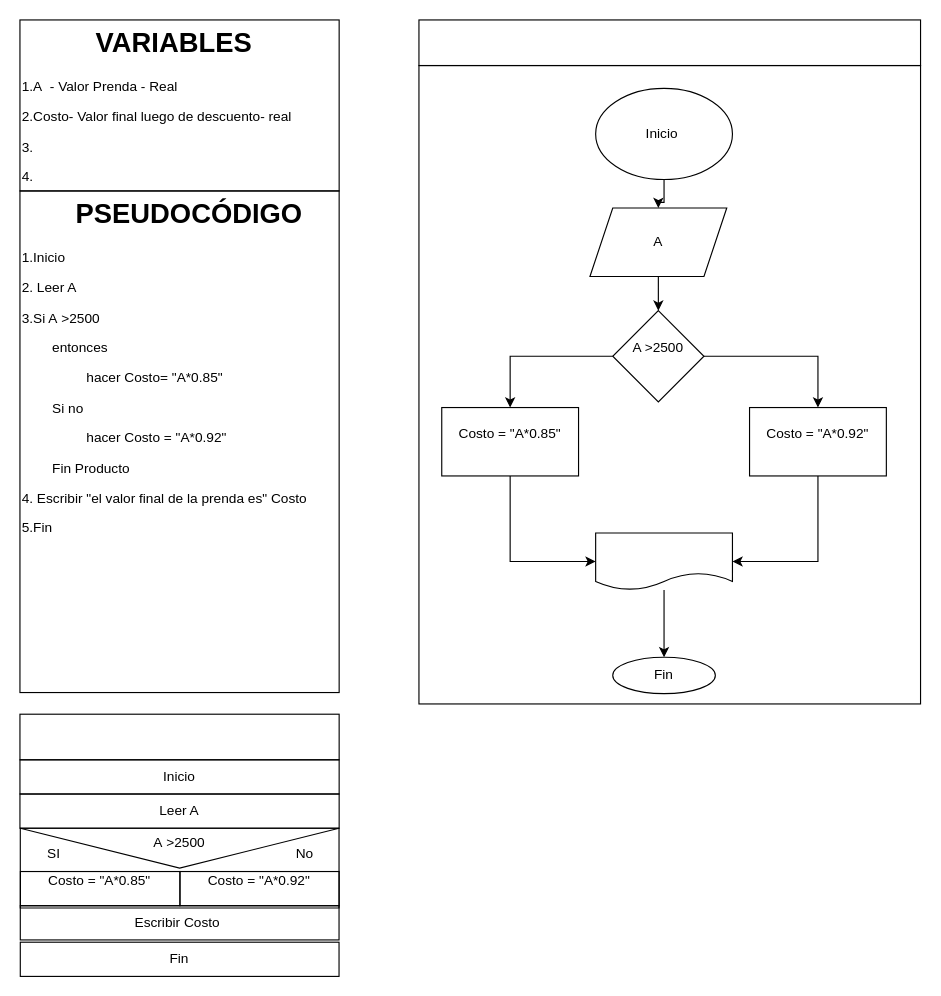
The diagram is 941 pixels wide and 996 high, and some of its shapes have lost their labels. The shapes that lost their labels are listed below. From the top down, each one's centre as x and y in pixels, then its label:
[669,42]: DIAGRAMA DE FLUJO
[663,561]: Costo
[179,736]: DIAGRAMA N/S .
